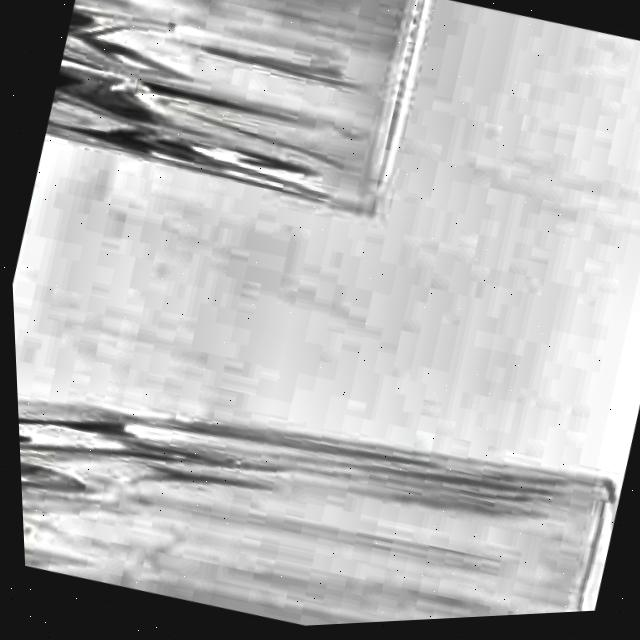glass: (14, 393, 611, 629), (43, 0, 428, 223)
